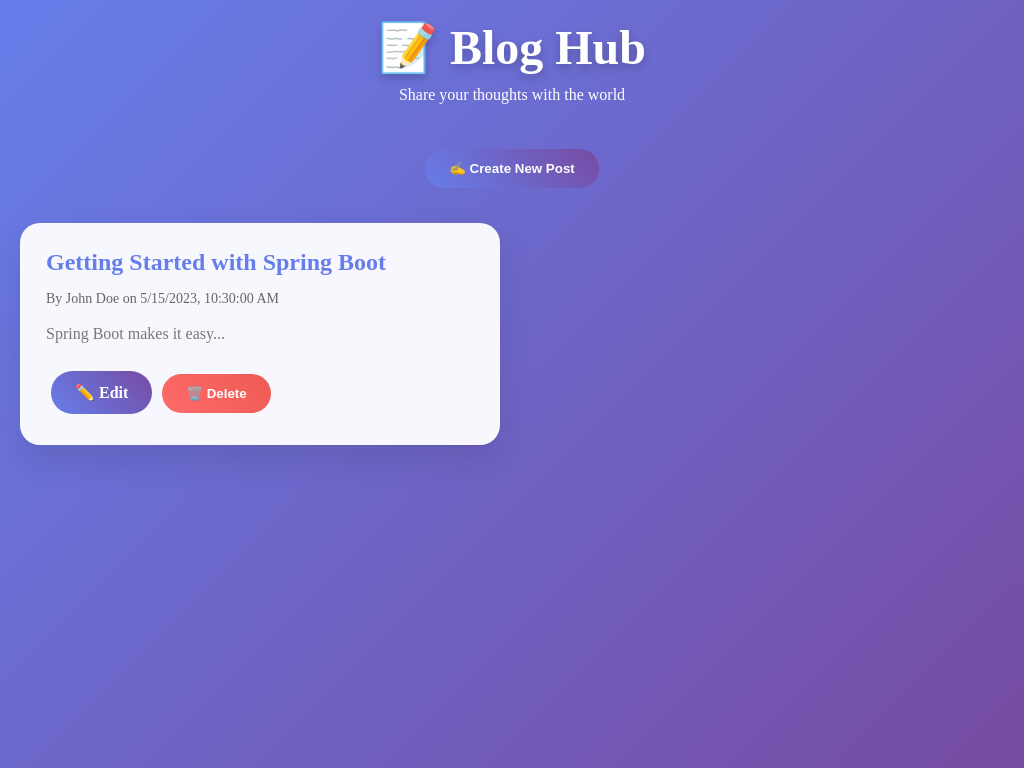
Test: Blog App Combined Tests › ErrorHandling_API error displayed on delete
Expected: the link "Getting Started with Spring Boot" is shown, [46, 249, 386, 275]
Click the button "🗑️ Delete": x=216, y=394 [162, 374, 271, 413]
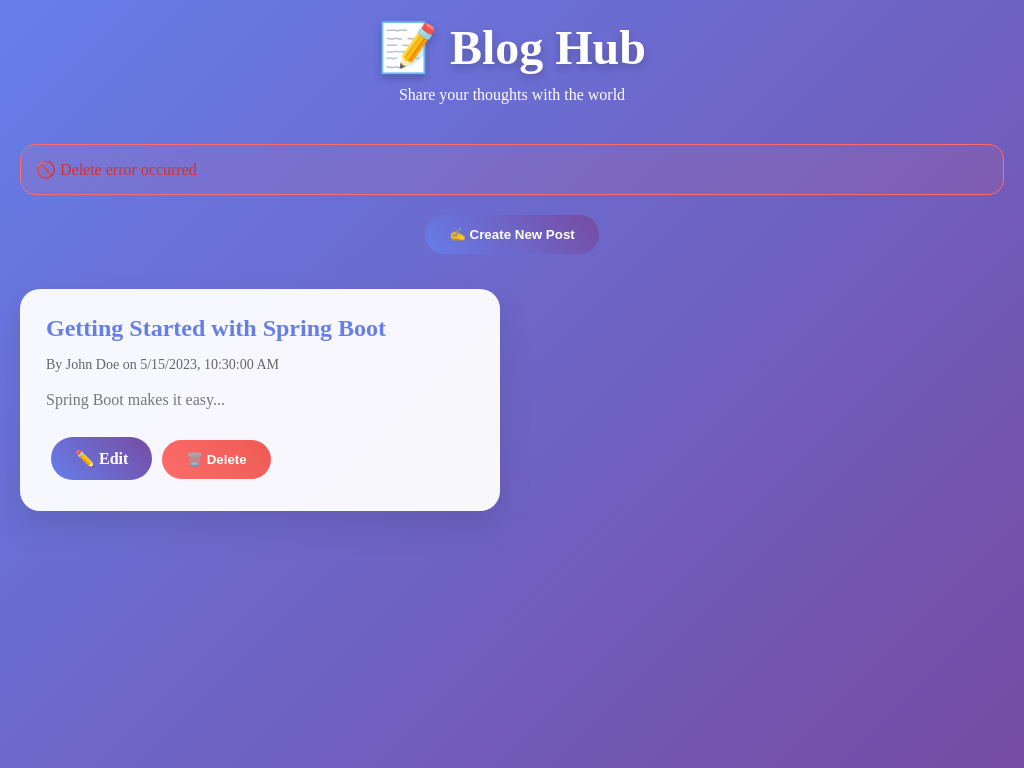
Expected: the text "🚫 Delete error occurred" is shown, [20, 144, 1004, 195]
